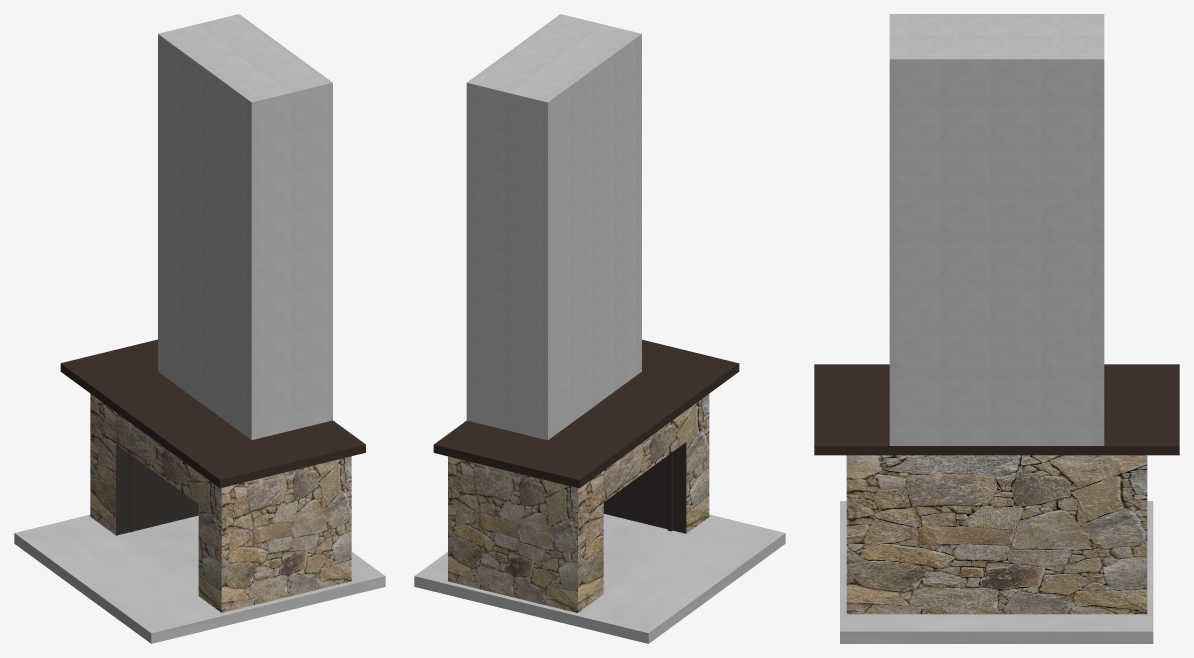
The model's file is chimney5.glb.
3 views of the same model, side by side, from view 1: azimuth 30°, elevation 25°; view 2: azimuth 150°, elevation 25°; view 3: azimuth 270°, elevation 25° (orthographic). The views are drawn at different scales.
Visible parts, largest first — view 1: Casework 6 Casework 6 [271720], main_change, Cube, Casework 9 Casework 9 [273579], Object004; view 2: Casework 6 Casework 6 [271720], main_change, Cube, Casework 9 Casework 9 [273579], Object004; view 3: Casework 6 Casework 6 [271720], main_change, Casework 9 Casework 9 [273579], Cube.
Part boxes in pixels (x1=…): Casework 6 Casework 6 [271720]: x1=158, y1=14, x2=332, y2=439; main_change: x1=90, y1=393, x2=351, y2=612; Cube: x1=14, y1=514, x2=385, y2=643; Casework 9 Casework 9 [273579]: x1=60, y1=339, x2=365, y2=488; Object004: x1=116, y1=444, x2=198, y2=535; Casework 6 Casework 6 [271720]: x1=466, y1=14, x2=641, y2=440; main_change: x1=448, y1=394, x2=709, y2=612; Cube: x1=414, y1=514, x2=785, y2=643; Casework 9 Casework 9 [273579]: x1=433, y1=339, x2=739, y2=488; Object004: x1=603, y1=442, x2=686, y2=533; Casework 6 Casework 6 [271720]: x1=889, y1=14, x2=1104, y2=445; main_change: x1=846, y1=455, x2=1147, y2=614; Casework 9 Casework 9 [273579]: x1=814, y1=364, x2=1179, y2=455; Cube: x1=840, y1=501, x2=1153, y2=643.
Bounding box in the file's own units: 1.44 × 2.91 × 1.7.
6 materials, 3 textured.
